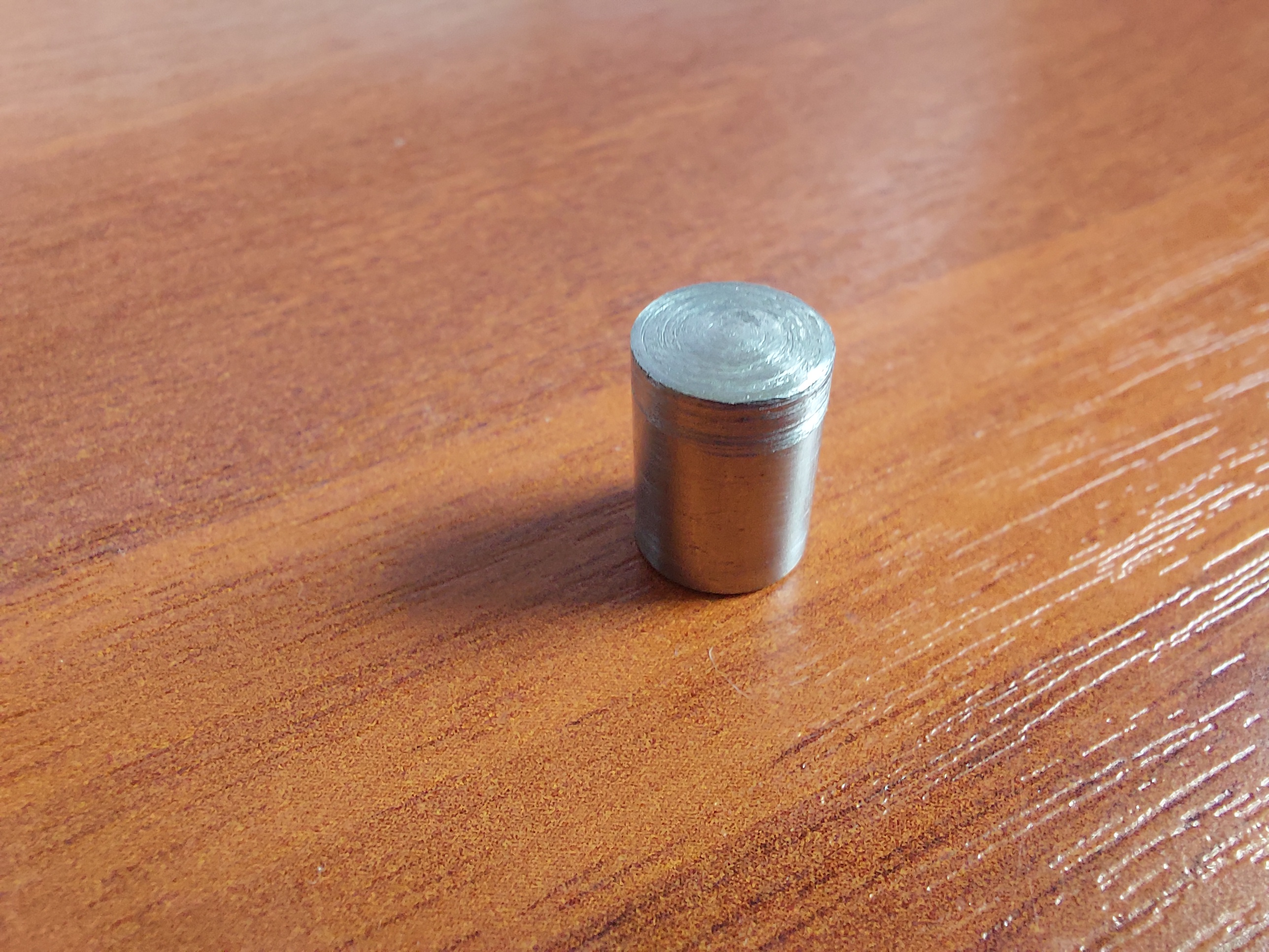tablet: (632, 286, 836, 596)
